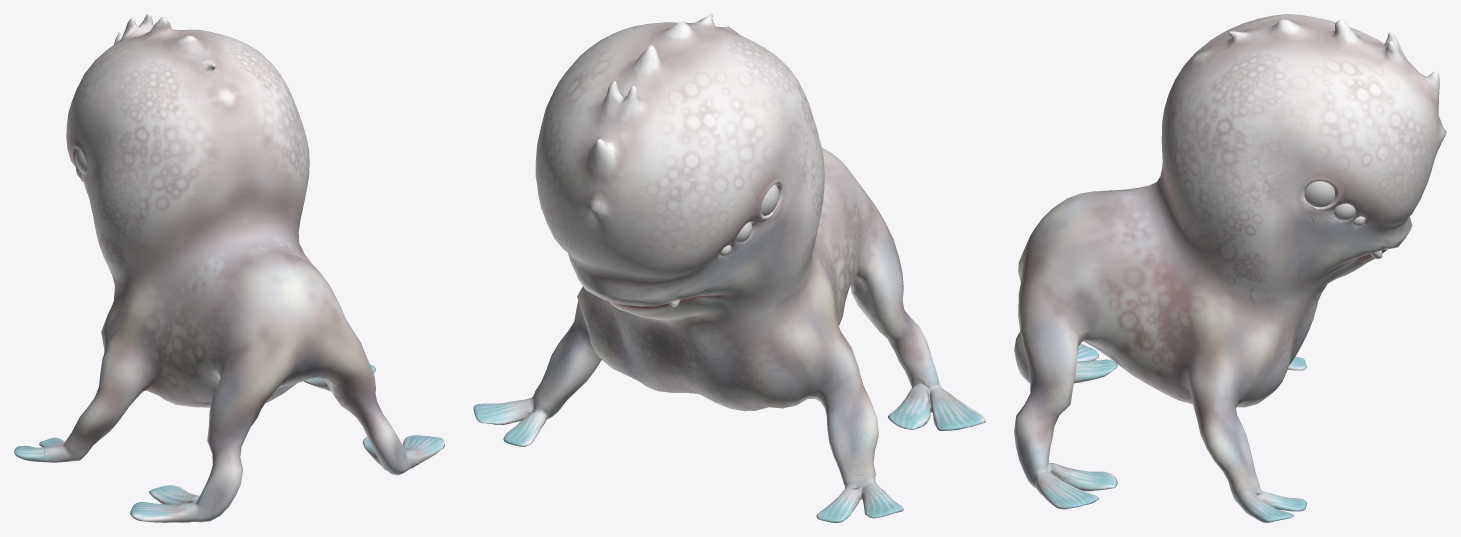
Rendered from dino.gltf.
3 renders of one model, left to right at view 1: azimuth 30°, elevation 25°; view 2: azimuth 150°, elevation 25°; view 3: azimuth 270°, elevation 25°, orthographic. The views are drawn at different scales.
Parts seen in each view (by area): view 1: belugosaurus; view 2: belugosaurus; view 3: belugosaurus.
Boxes of the visible parts, box(x1,y1,x2,y2) form: belugosaurus: box(14, 14, 444, 522); belugosaurus: box(473, 14, 985, 522); belugosaurus: box(1014, 14, 1446, 522).
Bounding box in the file's own units: 28.54 × 28.95 × 27.23.
Materials: 9 (1 with a texture image).
